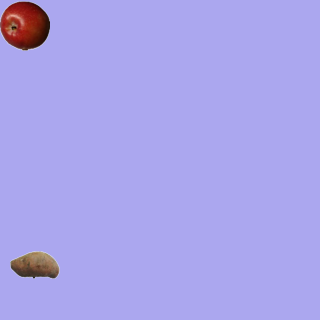Apple Braeburn: (0, 0, 49, 50)
Potato Sweet: (9, 239, 59, 289)
